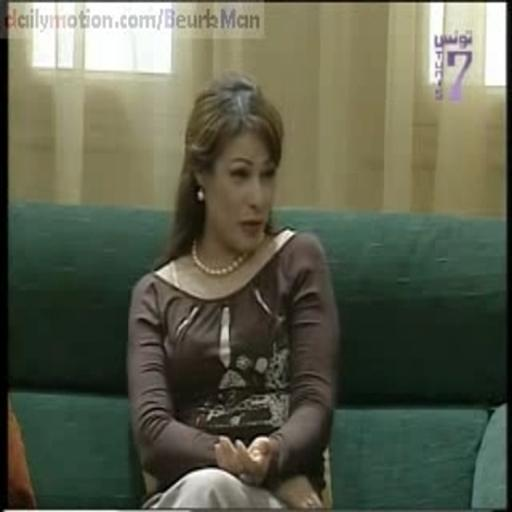zeineb: (197, 130, 277, 254)
